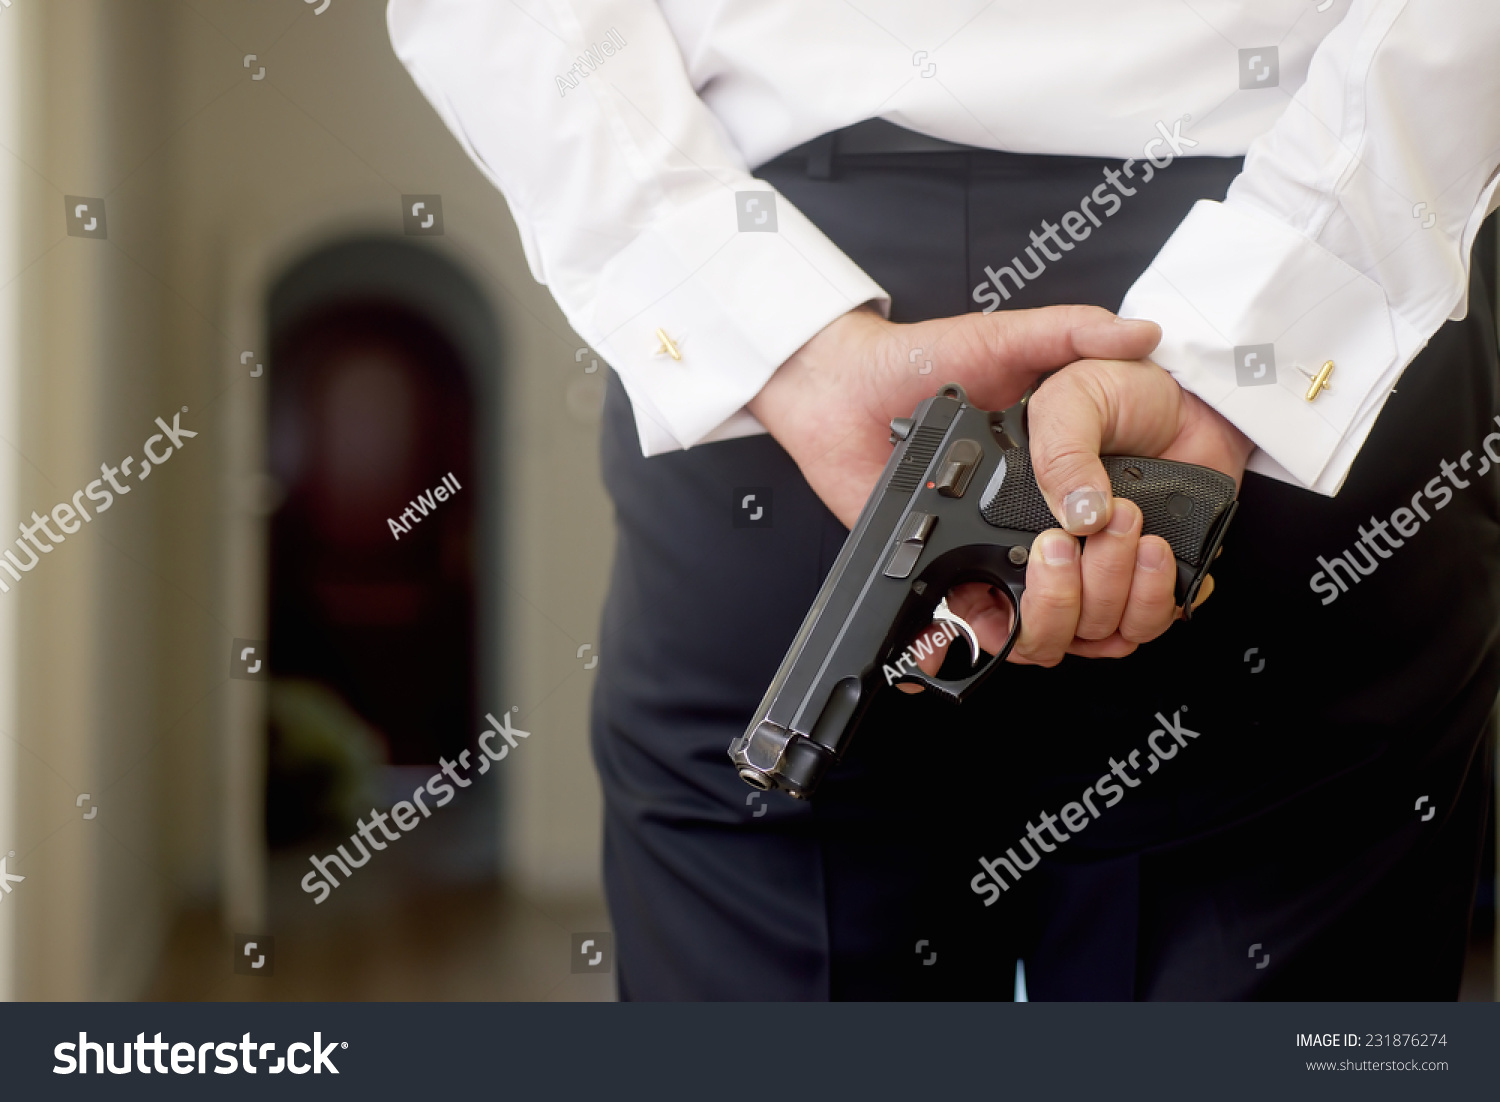gun: (717, 380, 1241, 808)
